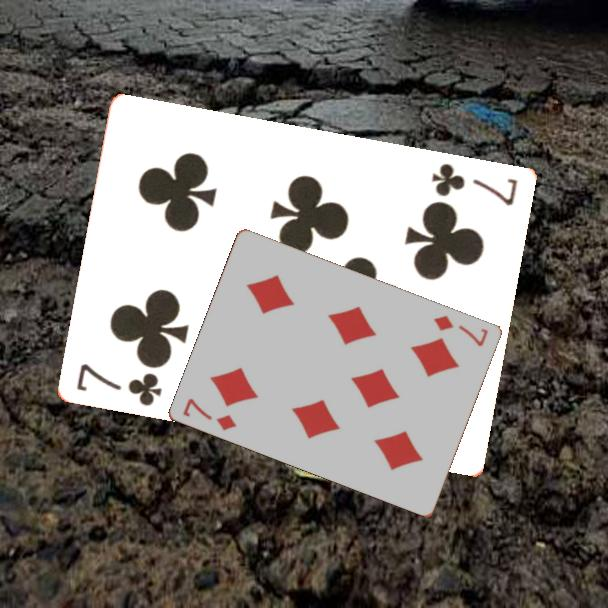c07: (428, 159, 521, 209), (73, 360, 166, 409)
d07: (431, 311, 492, 349), (180, 395, 240, 433)
